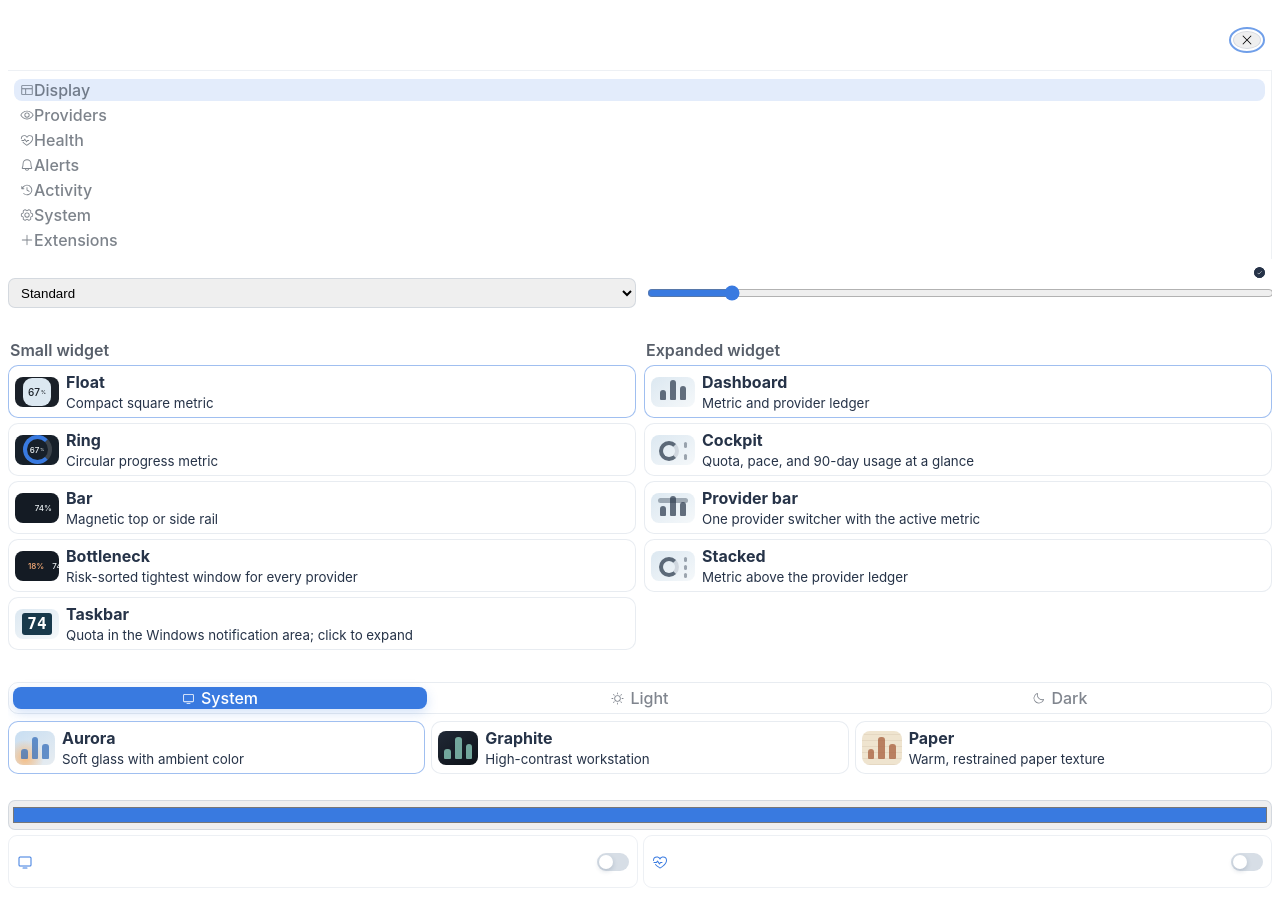
it: ControlCenter provider health › shows pending system operation feedback and prevents conflicting system actions
Click the button "System": click(63, 215) [14, 204, 1265, 226]
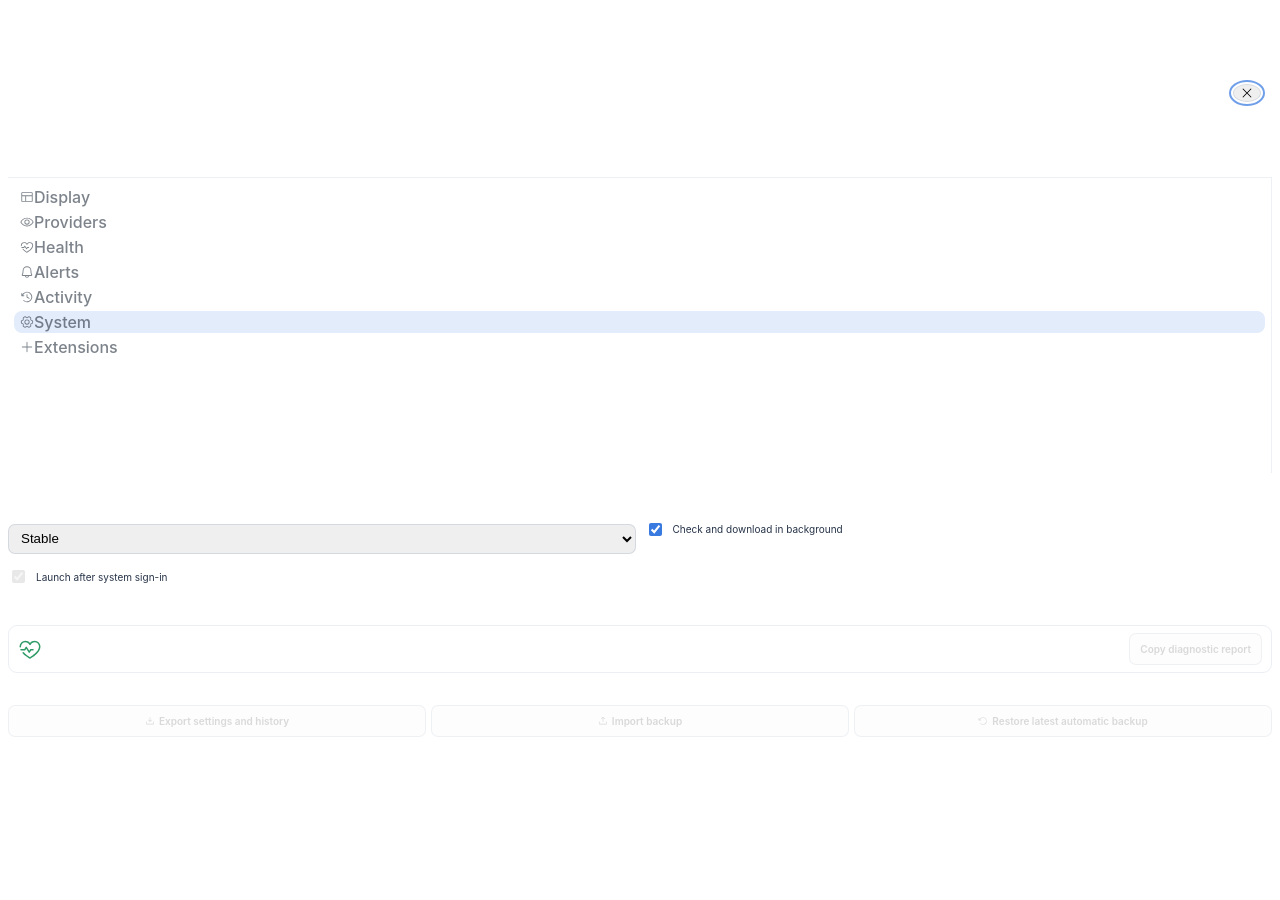
Expected: the button "Export settings and history" is disabled, [8, 705, 426, 737]
Expected: the button "Import backup" is disabled, [431, 705, 849, 737]
Expected: the button "Restore latest automatic backup" is disabled, [854, 705, 1272, 737]
